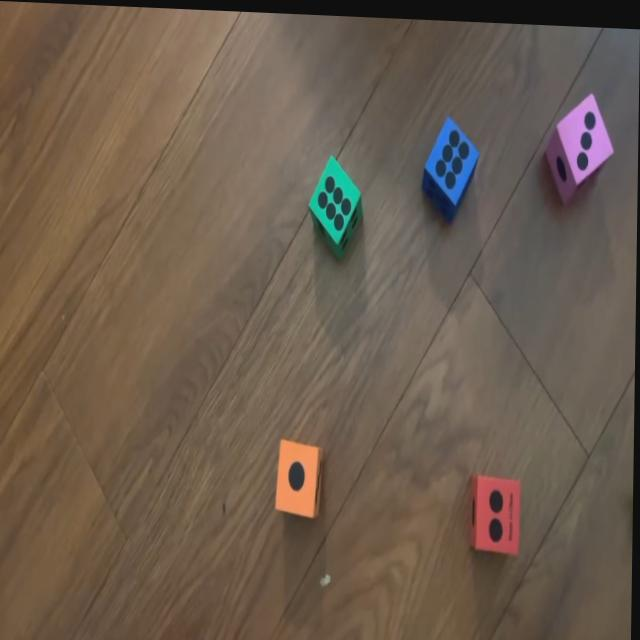blue_block: (420, 110, 481, 218)
red_block: (468, 469, 524, 548)
